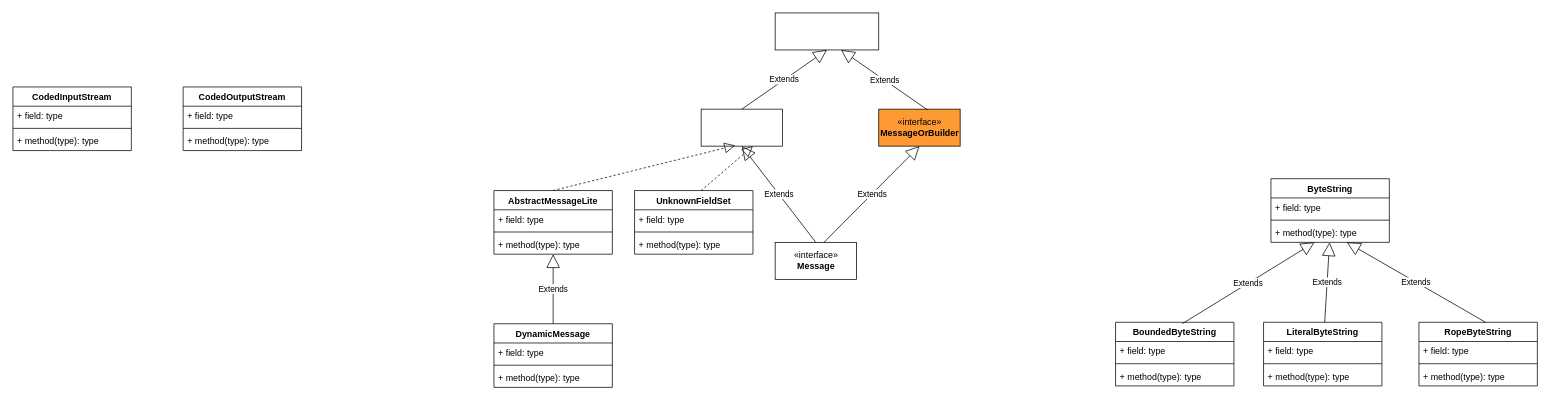
The diagram is 1550 pixels wide and 403 high, and some of its shapes have lost their labels. The centre of each missing label's shape, as x and y in pixels:
"«interface» MessageLite" belongs at (741,127).
"«interface» MessageLiteOrBuilder" belongs at (826,31).
